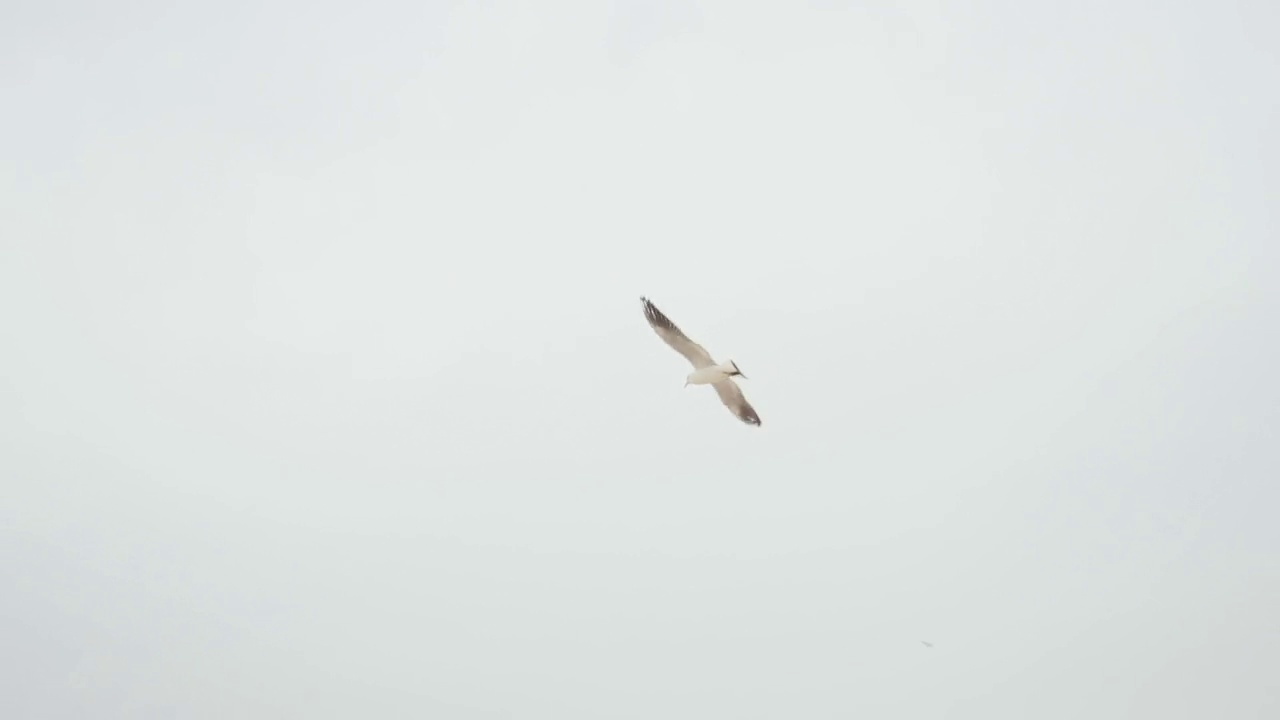bird: (640, 295, 764, 429)
